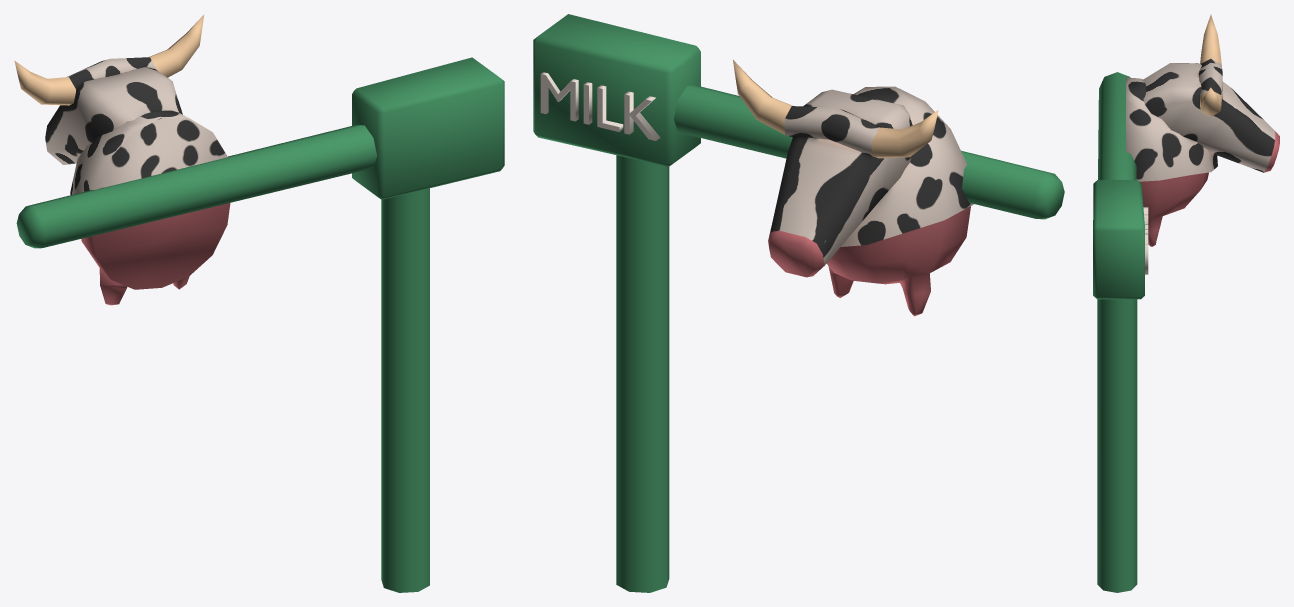
The model's file is Cow_Machine.fbx.
3 renders of one model, left to right at view 1: azimuth 30°, elevation 25°; view 2: azimuth 150°, elevation 25°; view 3: azimuth 270°, elevation 25°, orthographic. The views are drawn at different scales.
Parts seen in each view (by area): view 1: Sell machine.001, Cow, Horn; view 2: Sell machine.001, Cow, Horn, Text.003; view 3: Sell machine.001, Cow, Horn, Text.003.
Part boxes in pixels (x1,y1,x2,y2): Sell machine.001: (16, 57, 504, 592); Cow: (45, 57, 230, 305); Horn: (14, 14, 204, 105); Sell machine.001: (533, 14, 1064, 592); Cow: (768, 86, 973, 316); Horn: (733, 60, 938, 158); Text.003: (540, 72, 660, 140); Sell machine.001: (1093, 72, 1144, 592); Cow: (1126, 58, 1279, 246); Horn: (1200, 14, 1221, 116); Text.003: (1143, 206, 1148, 274).
Bounding box in the file's own units: 0.4247 × 0.4868 × 0.1863.
4 materials, 1 textured.
